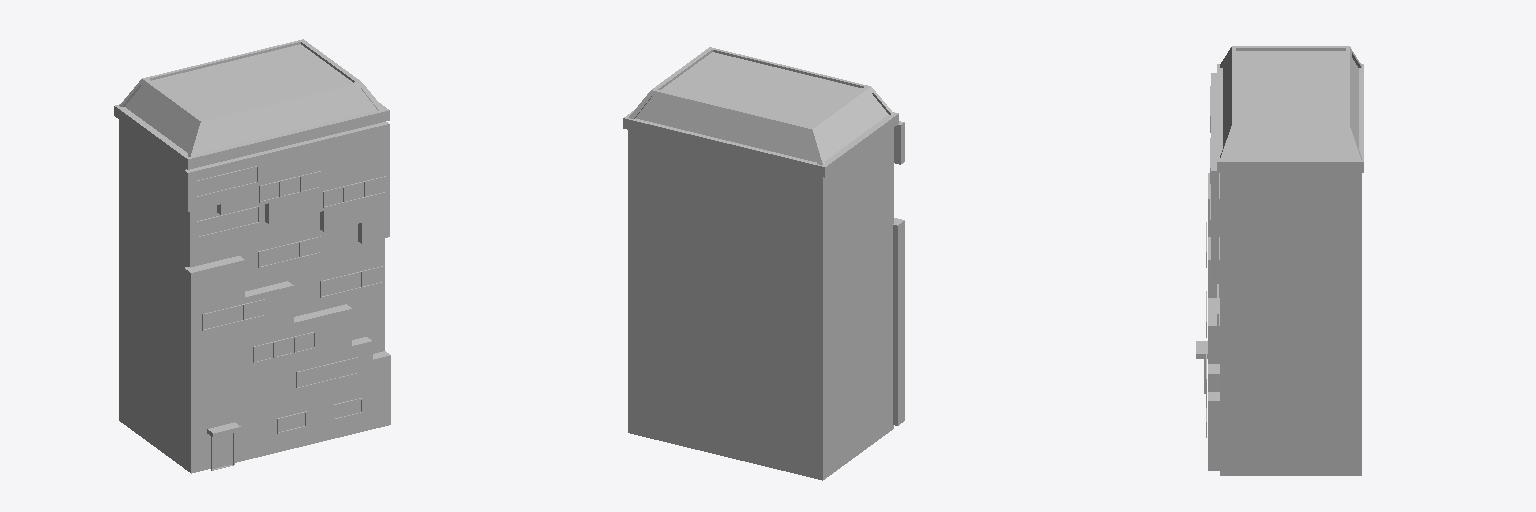
The model's file is building.obj.
3 views of the same model, side by side, from view 1: azimuth 30°, elevation 25°; view 2: azimuth 150°, elevation 25°; view 3: azimuth 270°, elevation 25° (orthographic).
Parts seen in each view (by area): view 1: polySurface595 city; view 2: polySurface595 city; view 3: polySurface595 city.
Boxes of the visible parts, <box> form: polySurface595 city: <box>114,39,390,473</box>; polySurface595 city: <box>623,47,904,480</box>; polySurface595 city: <box>1196,46,1363,475</box>.
Bounding box in the file's own units: 6.16 × 9.84 × 4.39.